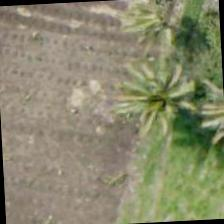Kelapa_Sawit: (128, 53, 223, 148)
